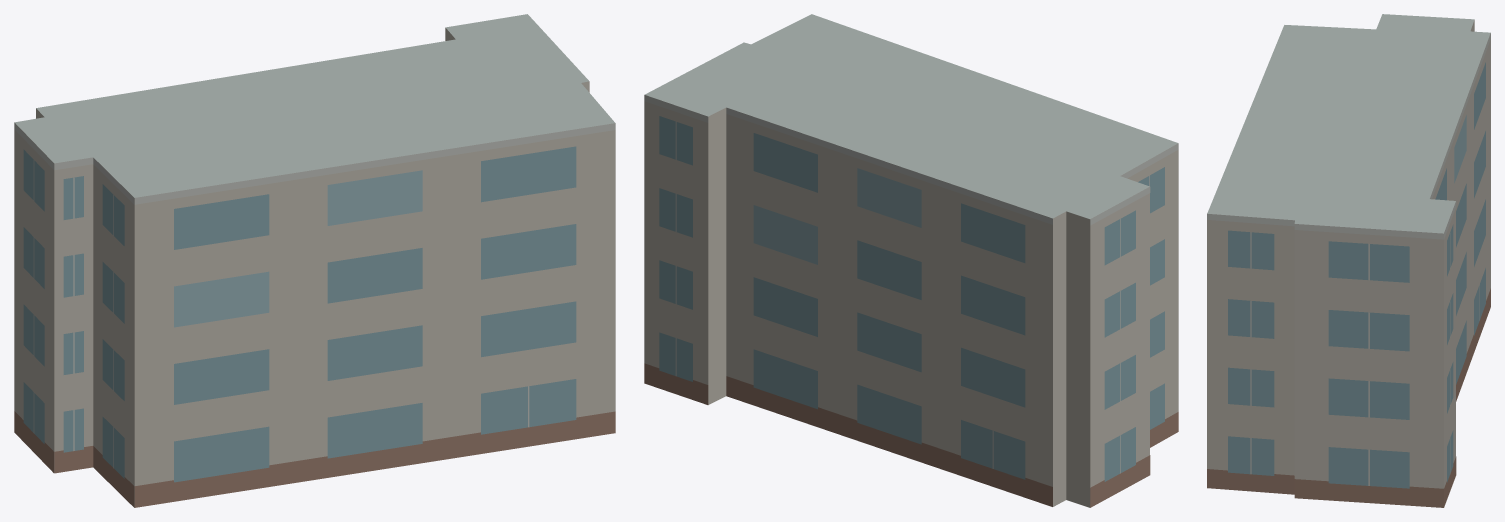
File: survey-upis-32673116.glb
3 renders of one model, left to right at view 1: azimuth 30°, elevation 25°; view 2: azimuth 150°, elevation 25°; view 3: azimuth 270°, elevation 25°, orthographic. The views are drawn at different scales.
Visible parts, largest first — view 1: survey-upis-32673116.tmp; view 2: survey-upis-32673116.tmp; view 3: survey-upis-32673116.tmp.
Part boxes in pixels (x1,y1,x2,y2): survey-upis-32673116.tmp: (14,14,615,507); survey-upis-32673116.tmp: (644,14,1178,507); survey-upis-32673116.tmp: (1207,14,1490,507).
Size of the model in its own units: 18.89 by 11 by 10.32.
